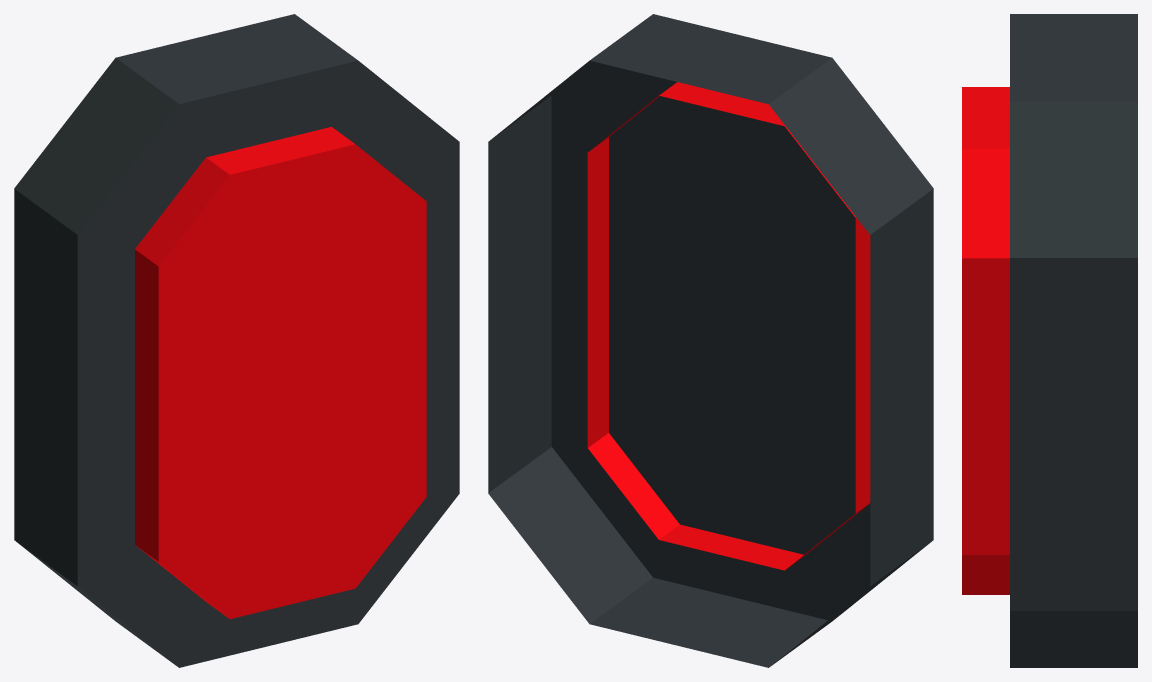
The model's file is Ceiling Light 02 Lit.FBX.
3 renders of one model, left to right at view 1: azimuth 30°, elevation 25°; view 2: azimuth 150°, elevation 25°; view 3: azimuth 270°, elevation 25°, orthographic.
Visible parts, largest first — view 1: Ceiling Light 02 Lit; view 2: Ceiling Light 02 Lit; view 3: Ceiling Light 02 Lit.
Boxes of the visible parts, box(x1,y1,x2,y2) form: Ceiling Light 02 Lit: box(14, 14, 459, 667); Ceiling Light 02 Lit: box(488, 14, 933, 667); Ceiling Light 02 Lit: box(962, 14, 1137, 667).
Bounding box in the file's own units: 31.05 × 43.78 × 12.33.
Materials: 1 (1 with a texture image).
